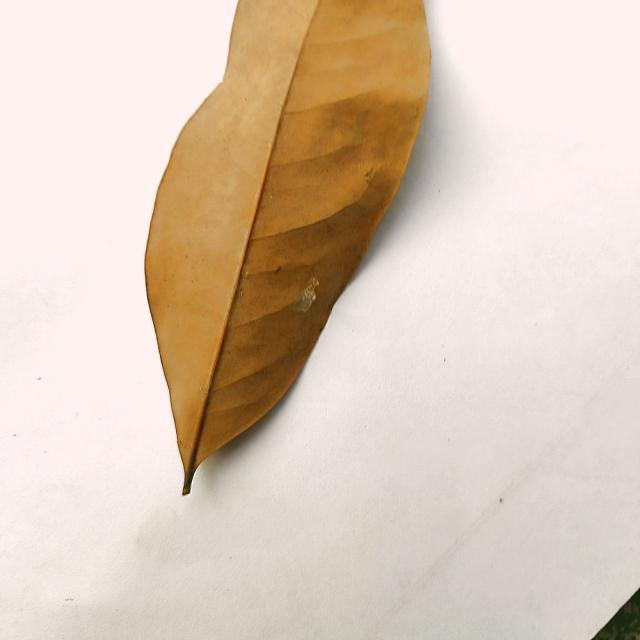Dry_Leaf-Lychee: (144, 0, 433, 496)
